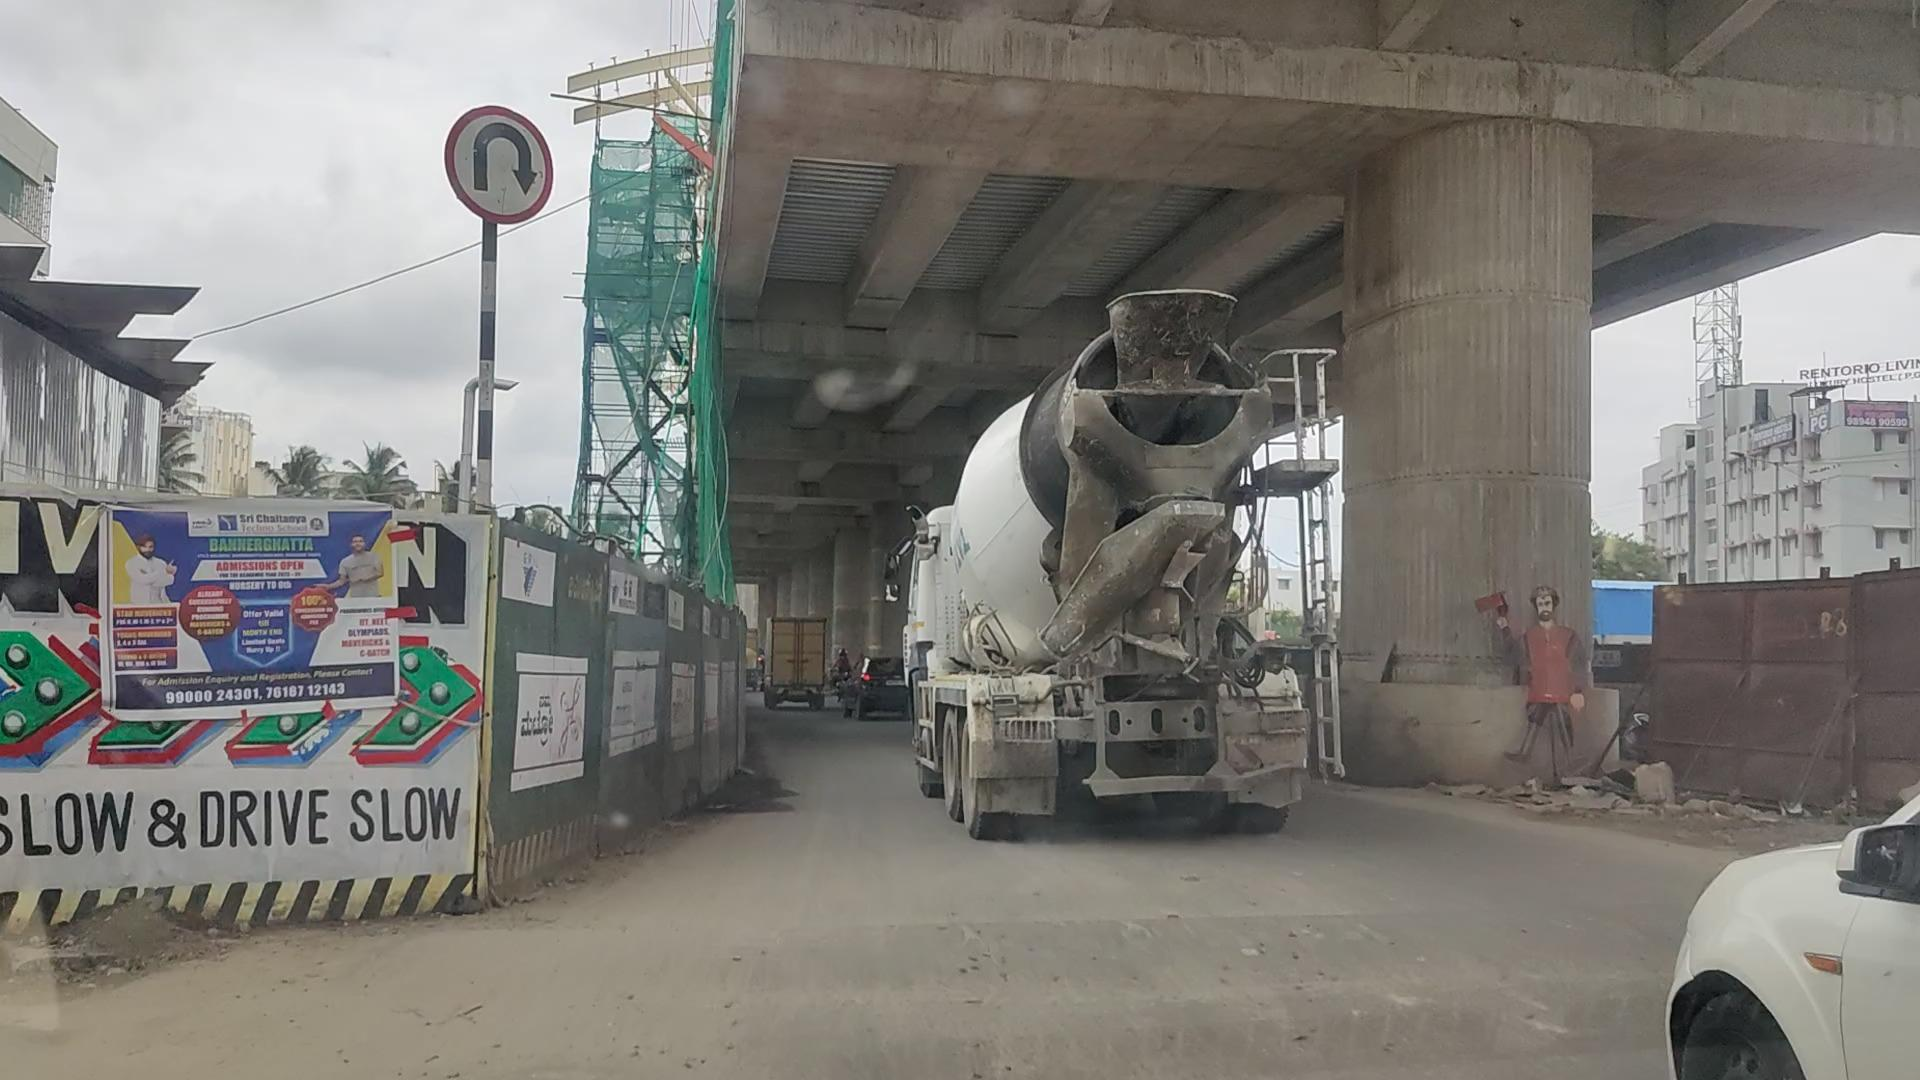HMV: (910, 276, 1323, 819), (769, 615, 824, 708)
SpeedBump: (338, 882, 1705, 1025)
